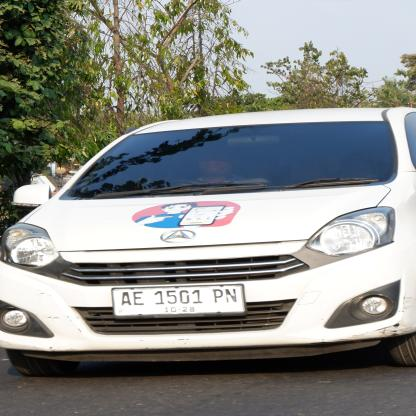Plat-Nomor: (109, 280, 252, 320)
